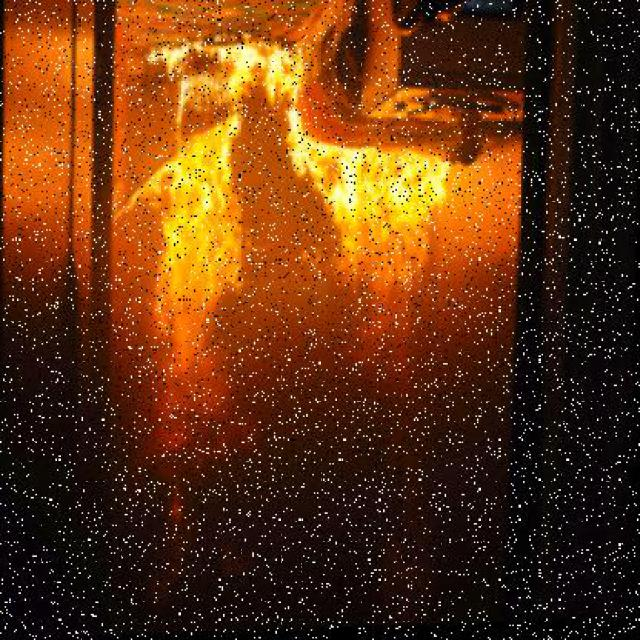fire: (288, 93, 463, 430), (140, 24, 259, 455)
